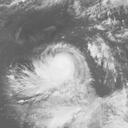cyclone: (23, 43, 90, 100)
